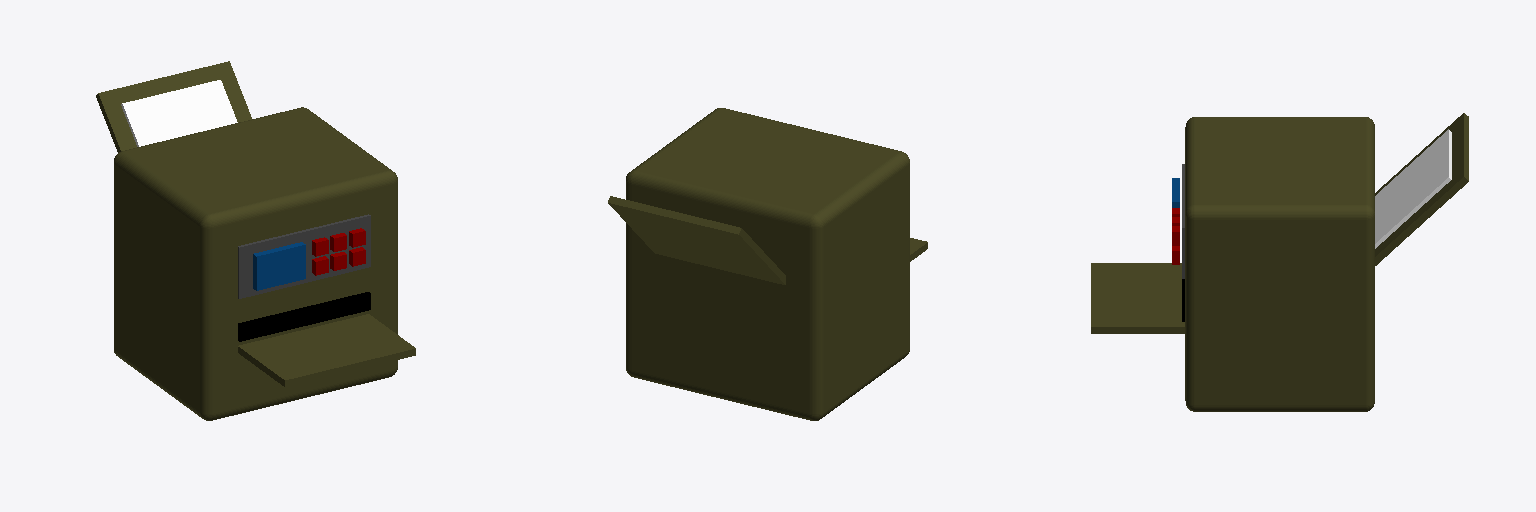
File: printer.obj
The picture shows the model from 3 angles: view 1: azimuth 30°, elevation 25°; view 2: azimuth 150°, elevation 25°; view 3: azimuth 270°, elevation 25°; orthographic projection.
Parts seen in each view (by area): view 1: Body, Output_tray, Input_paper, Input_tray, Control_panel, Output_slot, Control_panel_screen; view 2: Body, Input_tray; view 3: Body, Output_tray, Input_paper, Input_tray.
Part boxes in pixels (x1,y1,x2,y2): Body: (114,107,397,420); Output_tray: (238,314,415,386); Input_paper: (121,80,237,146); Input_tray: (96,61,251,152); Control_panel: (238,214,370,298); Output_slot: (238,292,370,341); Control_panel_screen: (253,242,305,290); Body: (626,108,909,420); Input_tray: (608,196,785,284); Body: (1185,117,1374,411); Output_tray: (1091,263,1184,333); Input_paper: (1375,129,1451,248); Input_tray: (1375,113,1468,265).
Size of the model in its own units: 0.6 by 0.6487 by 0.9985.